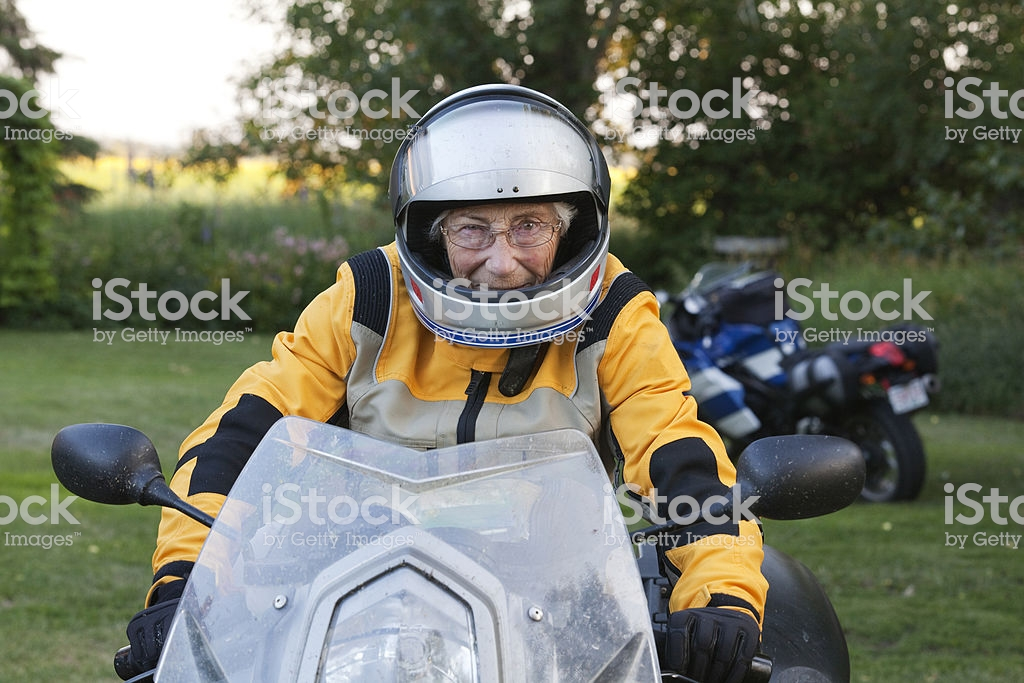helmet: (374, 98, 629, 330)
